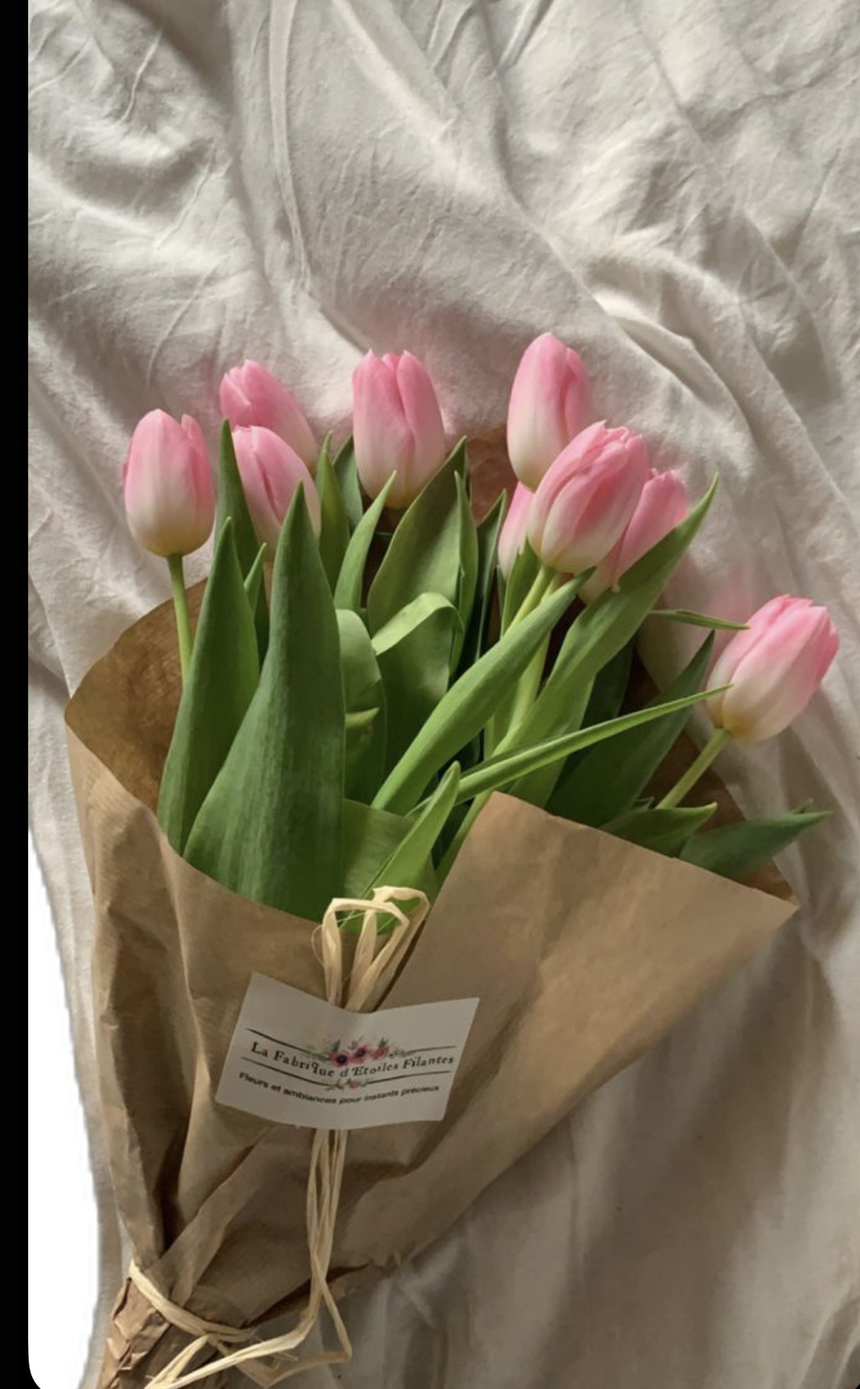tulip: (698, 587, 846, 748), (522, 415, 657, 576), (345, 336, 456, 514), (573, 464, 689, 618), (112, 396, 217, 566), (502, 327, 596, 494), (223, 417, 327, 567), (208, 355, 323, 479), (491, 476, 546, 585)
